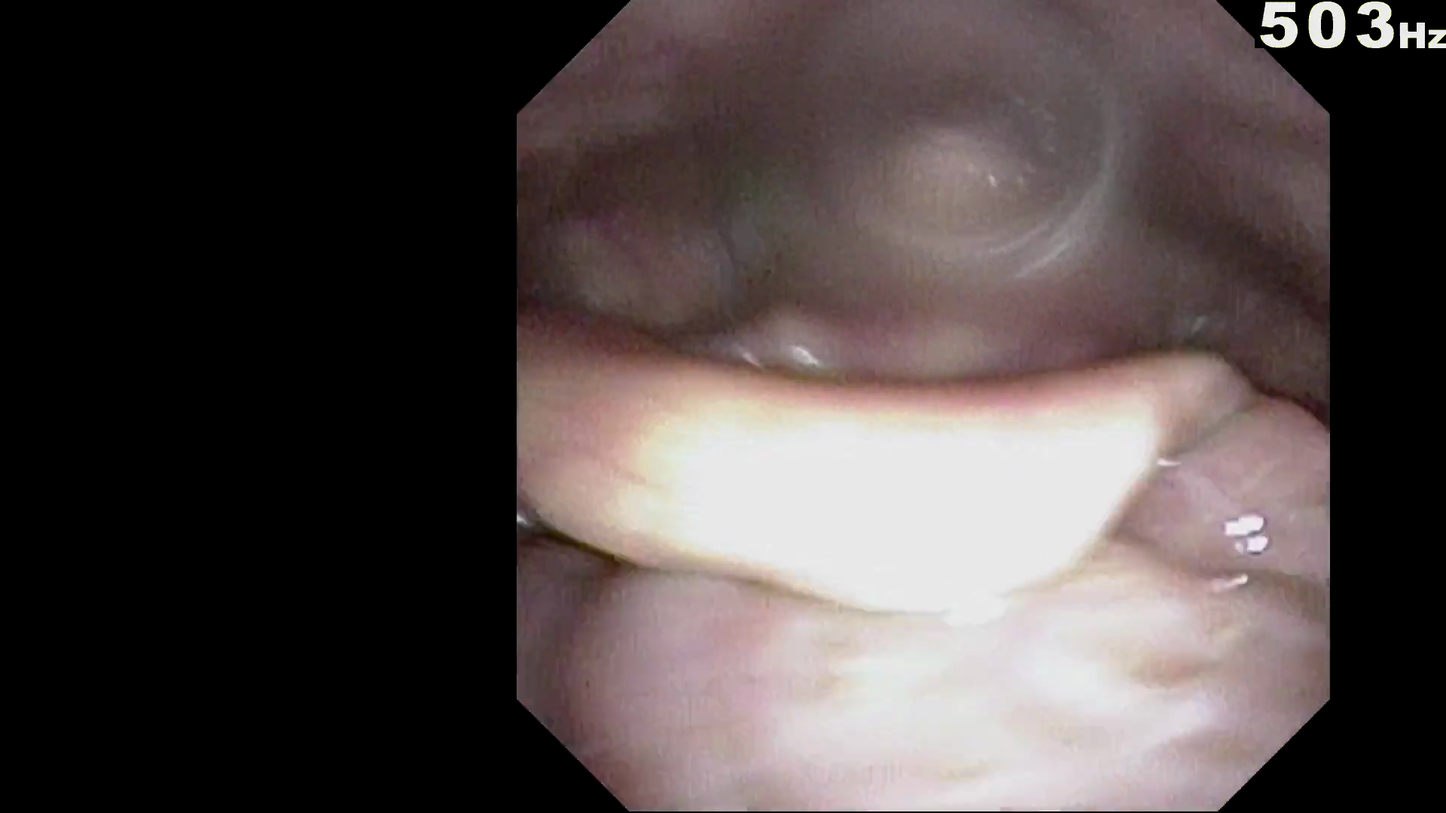epiglottis: (604, 358, 1219, 583)
